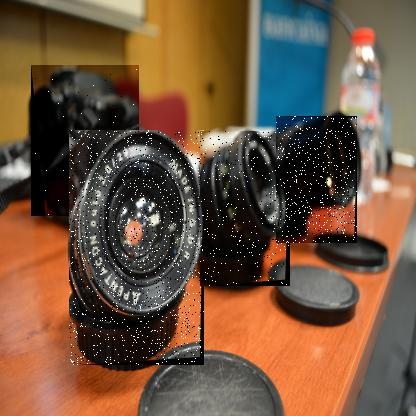Camera: (70, 132, 206, 368), (32, 66, 141, 218), (201, 132, 292, 288), (277, 117, 359, 245)
